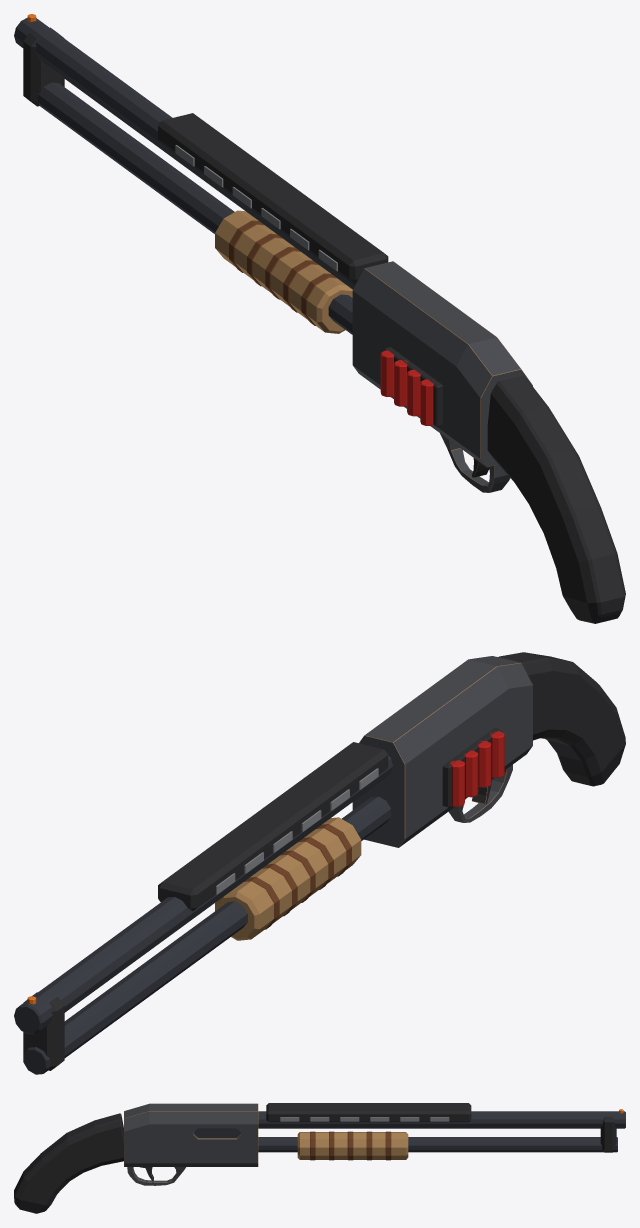
File: shotgun.glb
The picture shows the model from 3 angles, top to bottom: view 1: azimuth 30°, elevation 25°; view 2: azimuth 150°, elevation 25°; view 3: azimuth 270°, elevation 25°; orthographic projection. The views are drawn at different scales.
Parts seen in each view (by area): view 1: shotgun; view 2: shotgun; view 3: shotgun.
Part boxes in pixels (box(x1,y1,x2,y2)): shotgun: box(14, 14, 625, 623); shotgun: box(14, 652, 625, 1074); shotgun: box(14, 1103, 625, 1213).
Bounding box in the file's own units: 0.0588 × 0.1649 × 0.88.
